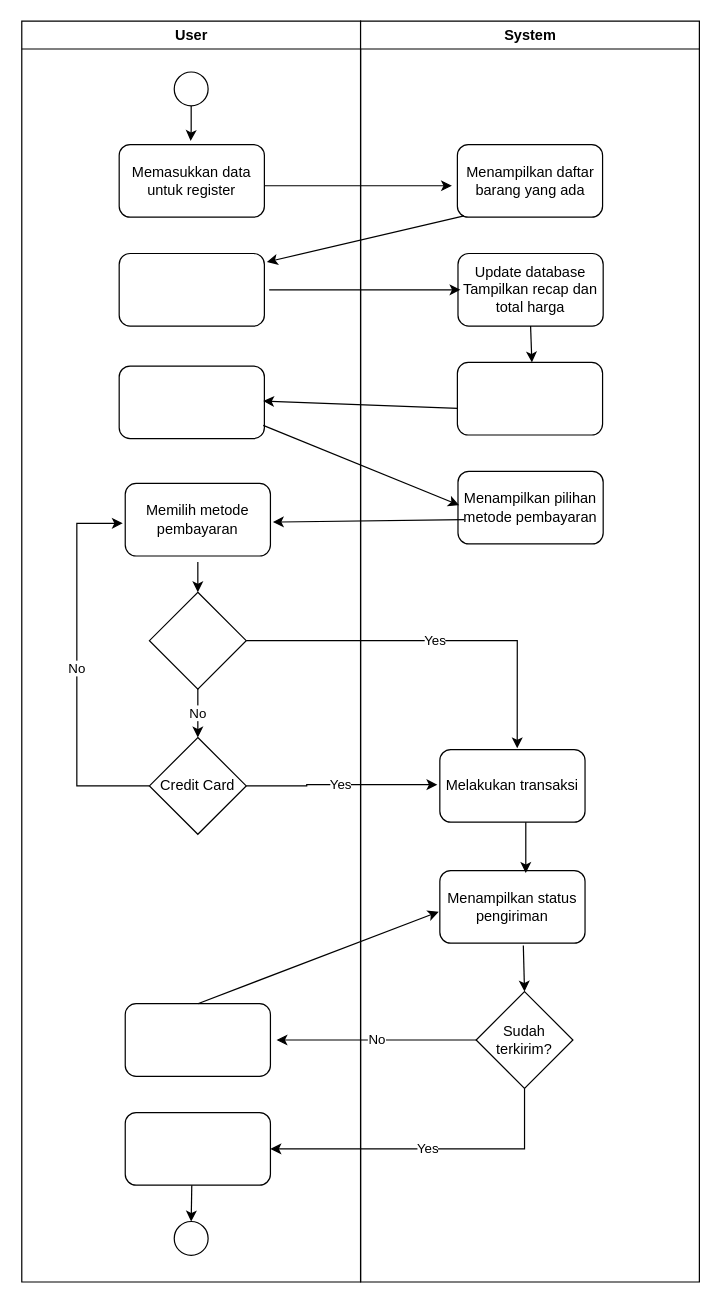
This 720x1303 diagram has some shape labels left out. The shapes that lost their labels are listed below. From the top down, each one's centre as x and y in pixels, then its label:
(x=191, y=289): Memilih barang
(x=191, y=402): Memilih tipe pengiriman
(x=529, y=398): Menampilkan pilihan tipe pengiriman
(x=197, y=640): Internet Banking
(x=197, y=1039): Status pengiriman :: "Shipped"
(x=197, y=1148): Status pengiriman : "Sent"
